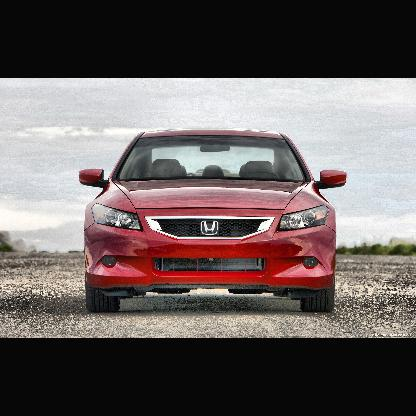Honda Accord Coupe 2012: (81, 133, 348, 314)
